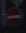No entry: (6, 6, 21, 28)
